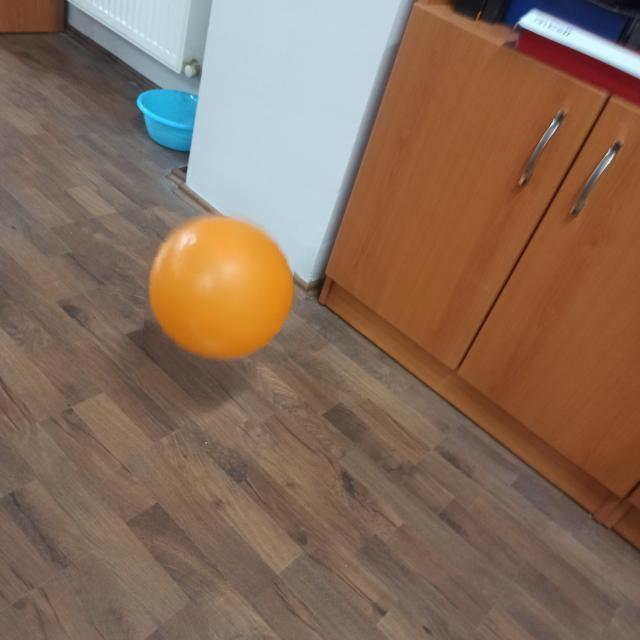balloon: (145, 214, 295, 362)
